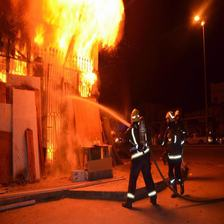fire: (2, 1, 125, 98), (41, 91, 64, 177)
